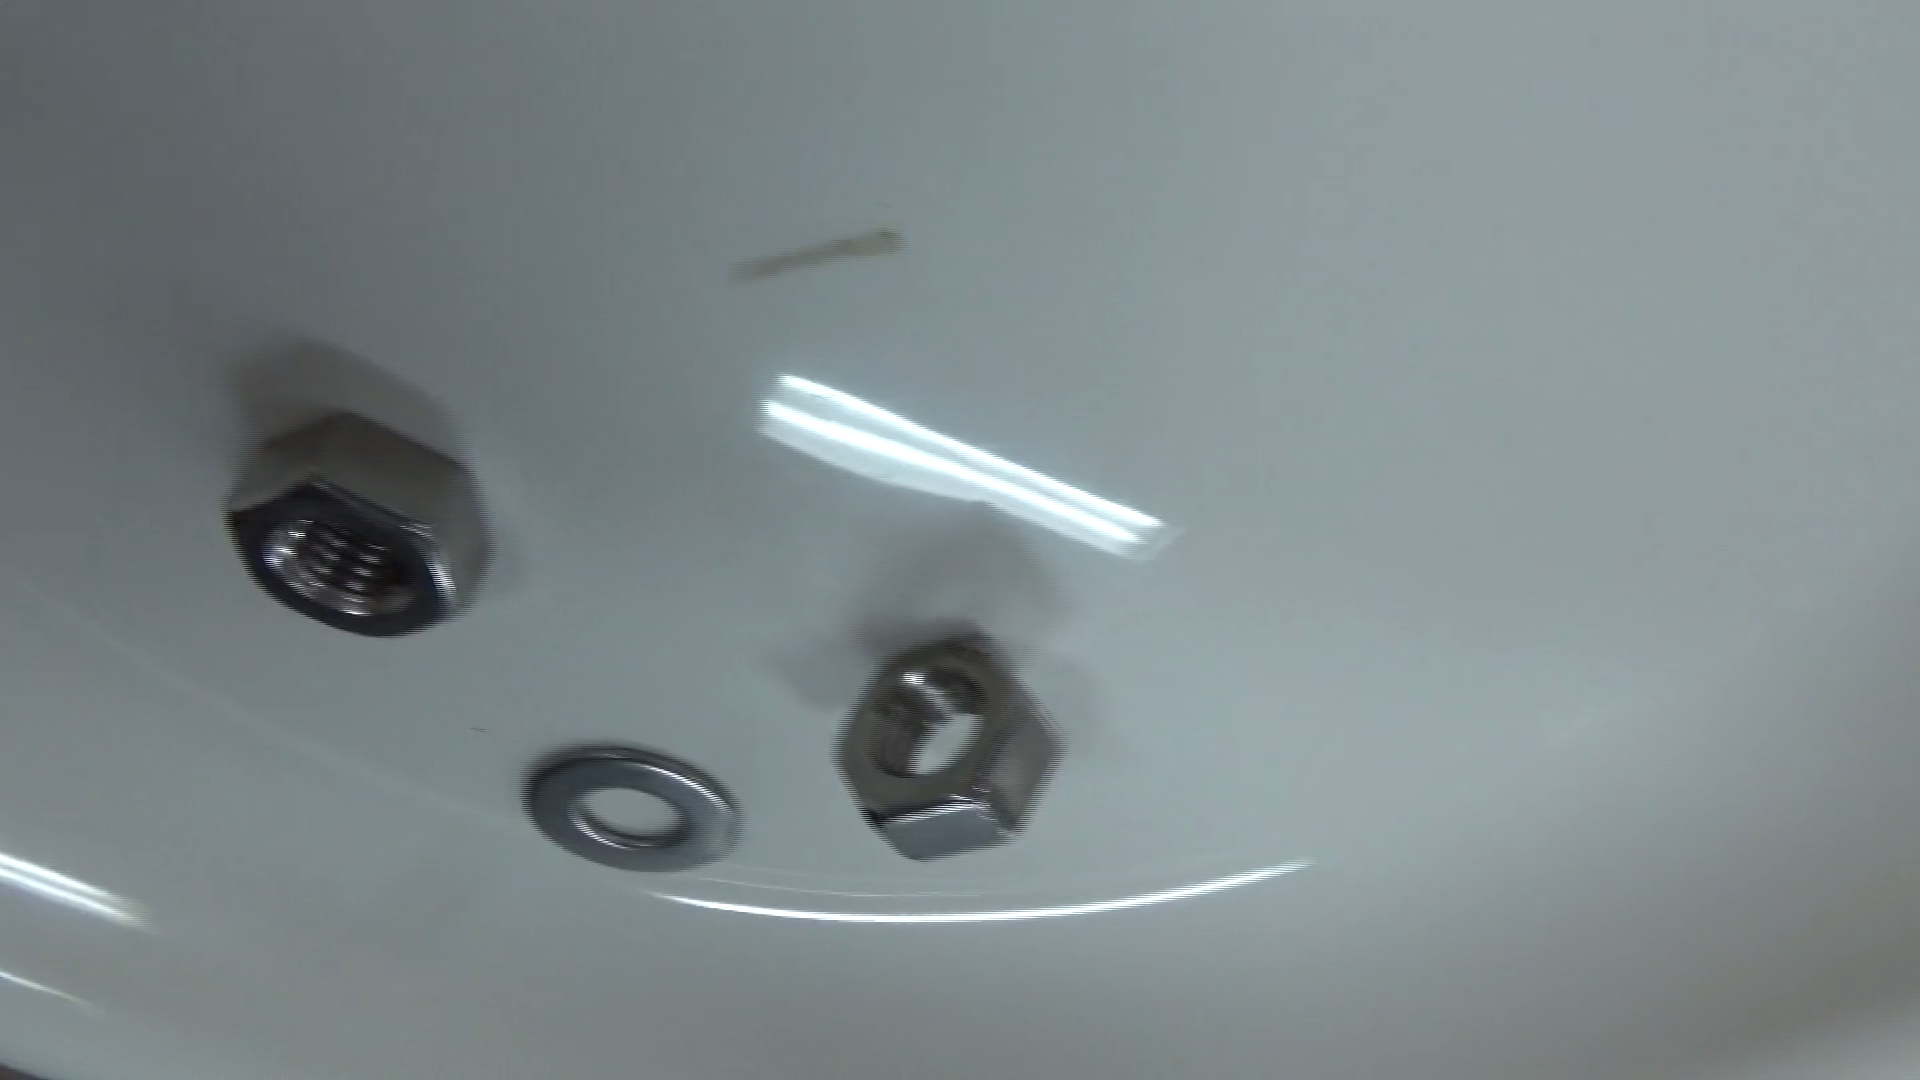nut: (214, 406, 495, 637), (829, 636, 1067, 861)
washer: (516, 733, 745, 877)
